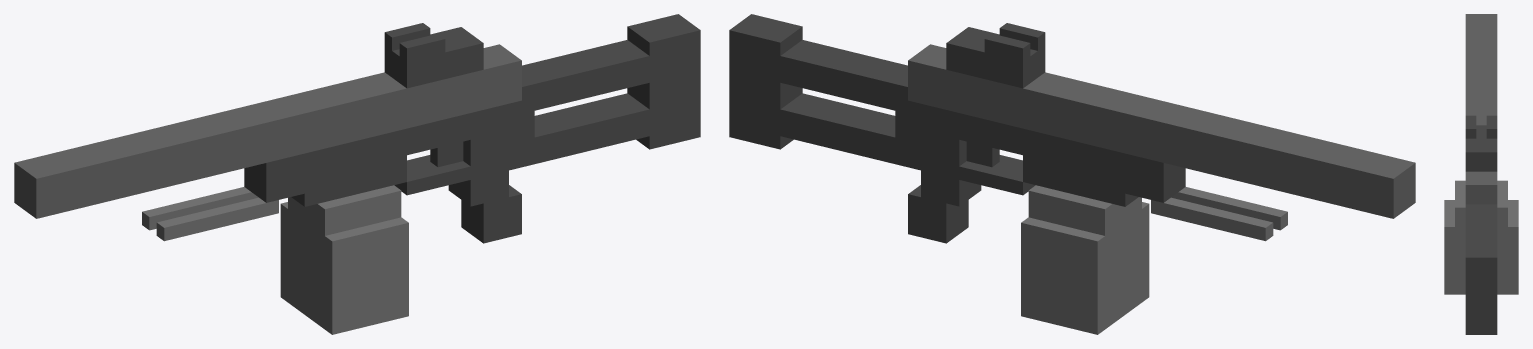
File: Gun-6.obj
3 renders of one model, left to right at view 1: azimuth 30°, elevation 25°; view 2: azimuth 150°, elevation 25°; view 3: azimuth 270°, elevation 25°, orthographic. The views are drawn at different scales.
Parts seen in each view (by area): view 1: Gun-6; view 2: Gun-6; view 3: Gun-6.
Part boxes in pixels (<box>): Gun-6: <box>14,14,700,334</box>; Gun-6: <box>729,14,1415,334</box>; Gun-6: <box>1444,14,1518,334</box>.
Size of the model in its own units: 52 by 19 by 7.
1 material, 1 textured.
